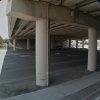Bridge: (4, 0, 95, 49)
